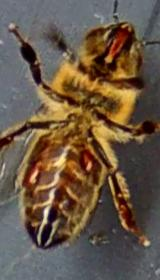varroa_mite: (66, 144, 118, 191), (8, 160, 53, 205)
